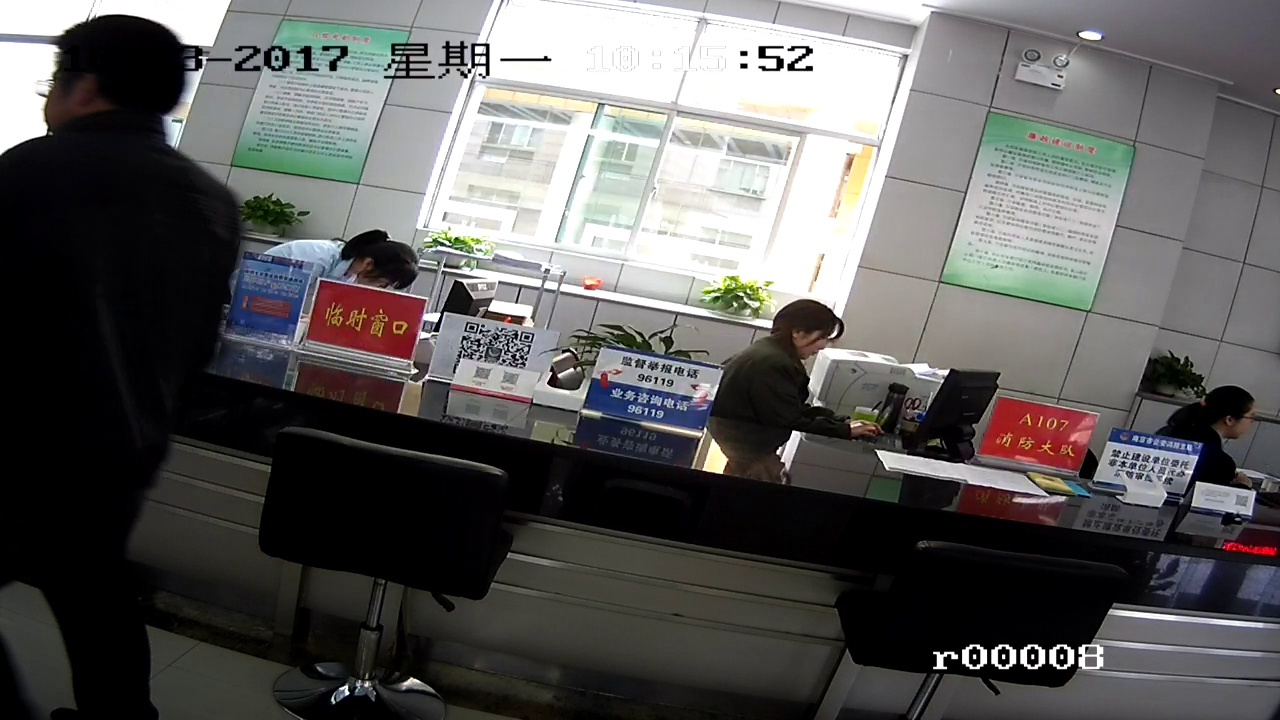billboard: (953, 120, 1109, 313), (253, 30, 386, 183), (581, 347, 701, 428), (996, 405, 1080, 475)
chair: (268, 440, 512, 720), (831, 535, 1105, 698)
monitor: (926, 366, 993, 462)
person: (16, 27, 211, 678), (740, 294, 837, 426), (318, 225, 411, 300), (1178, 381, 1251, 473)
pot: (699, 282, 764, 329), (242, 190, 297, 237)
